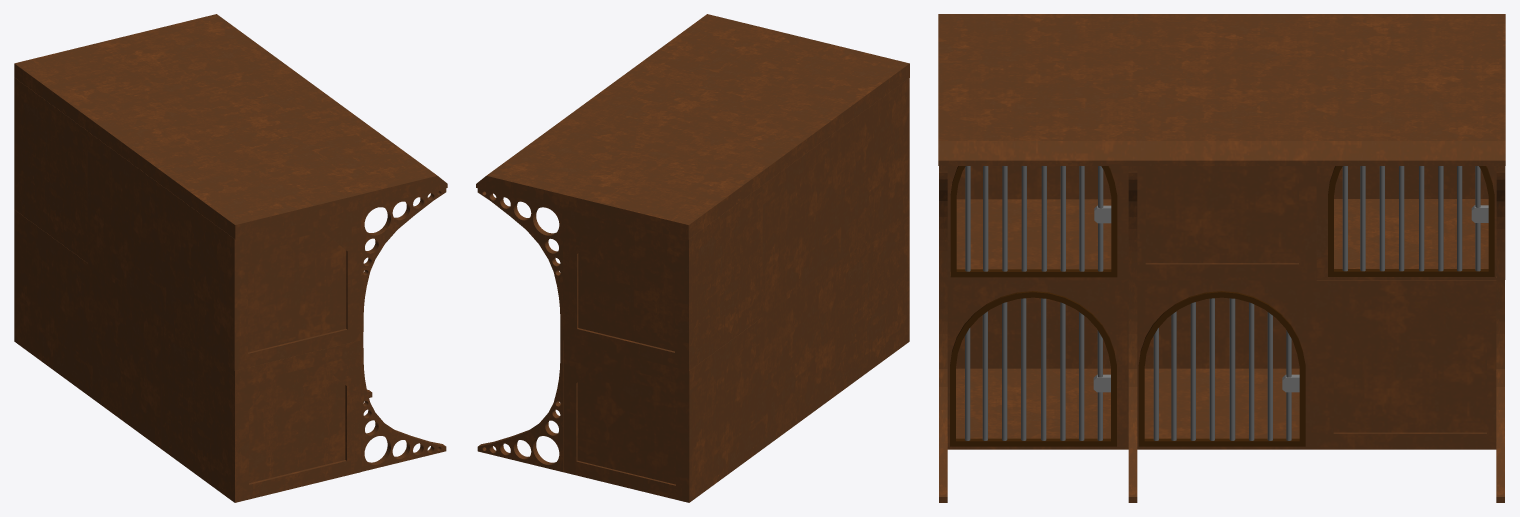
The model's file is Big cage combination without long cage.glb.
3 renders of one model, left to right at view 1: azimuth 30°, elevation 25°; view 2: azimuth 150°, elevation 25°; view 3: azimuth 270°, elevation 25°, orthographic. The views are drawn at different scales.
Parts seen in each view (by area): view 1: Cube.087, Cube.084, Cube.067, Cube.064, Cube.078, Cube.074, Cube.070; view 2: Cube.087, Cube.064, Cube.078, Cube.084, Cube.067, Cube.076, Cube.072; view 3: Cube.087, Cube.064, Cube.084, Cube.067, Cube.078, Cube.066, Cube.069, Cube.086, Cube.080, Cube.075, Cube.076, Cube.074 (+31 smaller).
Boxes of the visible parts, <box> form: Cube.087: <box>14,14,447,239</box>; Cube.084: <box>87,131,360,370</box>; Cube.067: <box>161,317,360,502</box>; Cube.064: <box>14,209,161,448</box>; Cube.078: <box>14,77,87,262</box>; Cube.074: <box>361,339,446,471</box>; Cube.070: <box>360,188,446,339</box>; Cube.087: <box>476,14,909,239</box>; Cube.064: <box>563,264,836,502</box>; Cube.078: <box>563,185,762,370</box>; Cube.084: <box>762,78,909,316</box>; Cube.067: <box>836,210,909,394</box>; Cube.076: <box>477,339,563,471</box>; Cube.072: <box>477,188,562,339</box>; Cube.087: <box>938,14,1505,165</box>; Cube.064: <box>1127,280,1496,449</box>; Cube.084: <box>947,166,1316,280</box>; Cube.067: <box>947,280,1127,449</box>; Cube.078: <box>1316,166,1505,279</box>; Cube.066: <box>1138,291,1305,446</box>; Cube.069: <box>950,291,1116,446</box>; Cube.086: <box>950,166,1117,277</box>; Cube.080: <box>1328,166,1494,276</box>; Cube.075: <box>1128,279,1137,502</box>; Cube.076: <box>1496,276,1504,502</box>; Cube.074: <box>939,279,947,502</box>.
Size of the model in its own units: 10.74 by 13.41 by 19.32.
4 materials, 4 textured.
